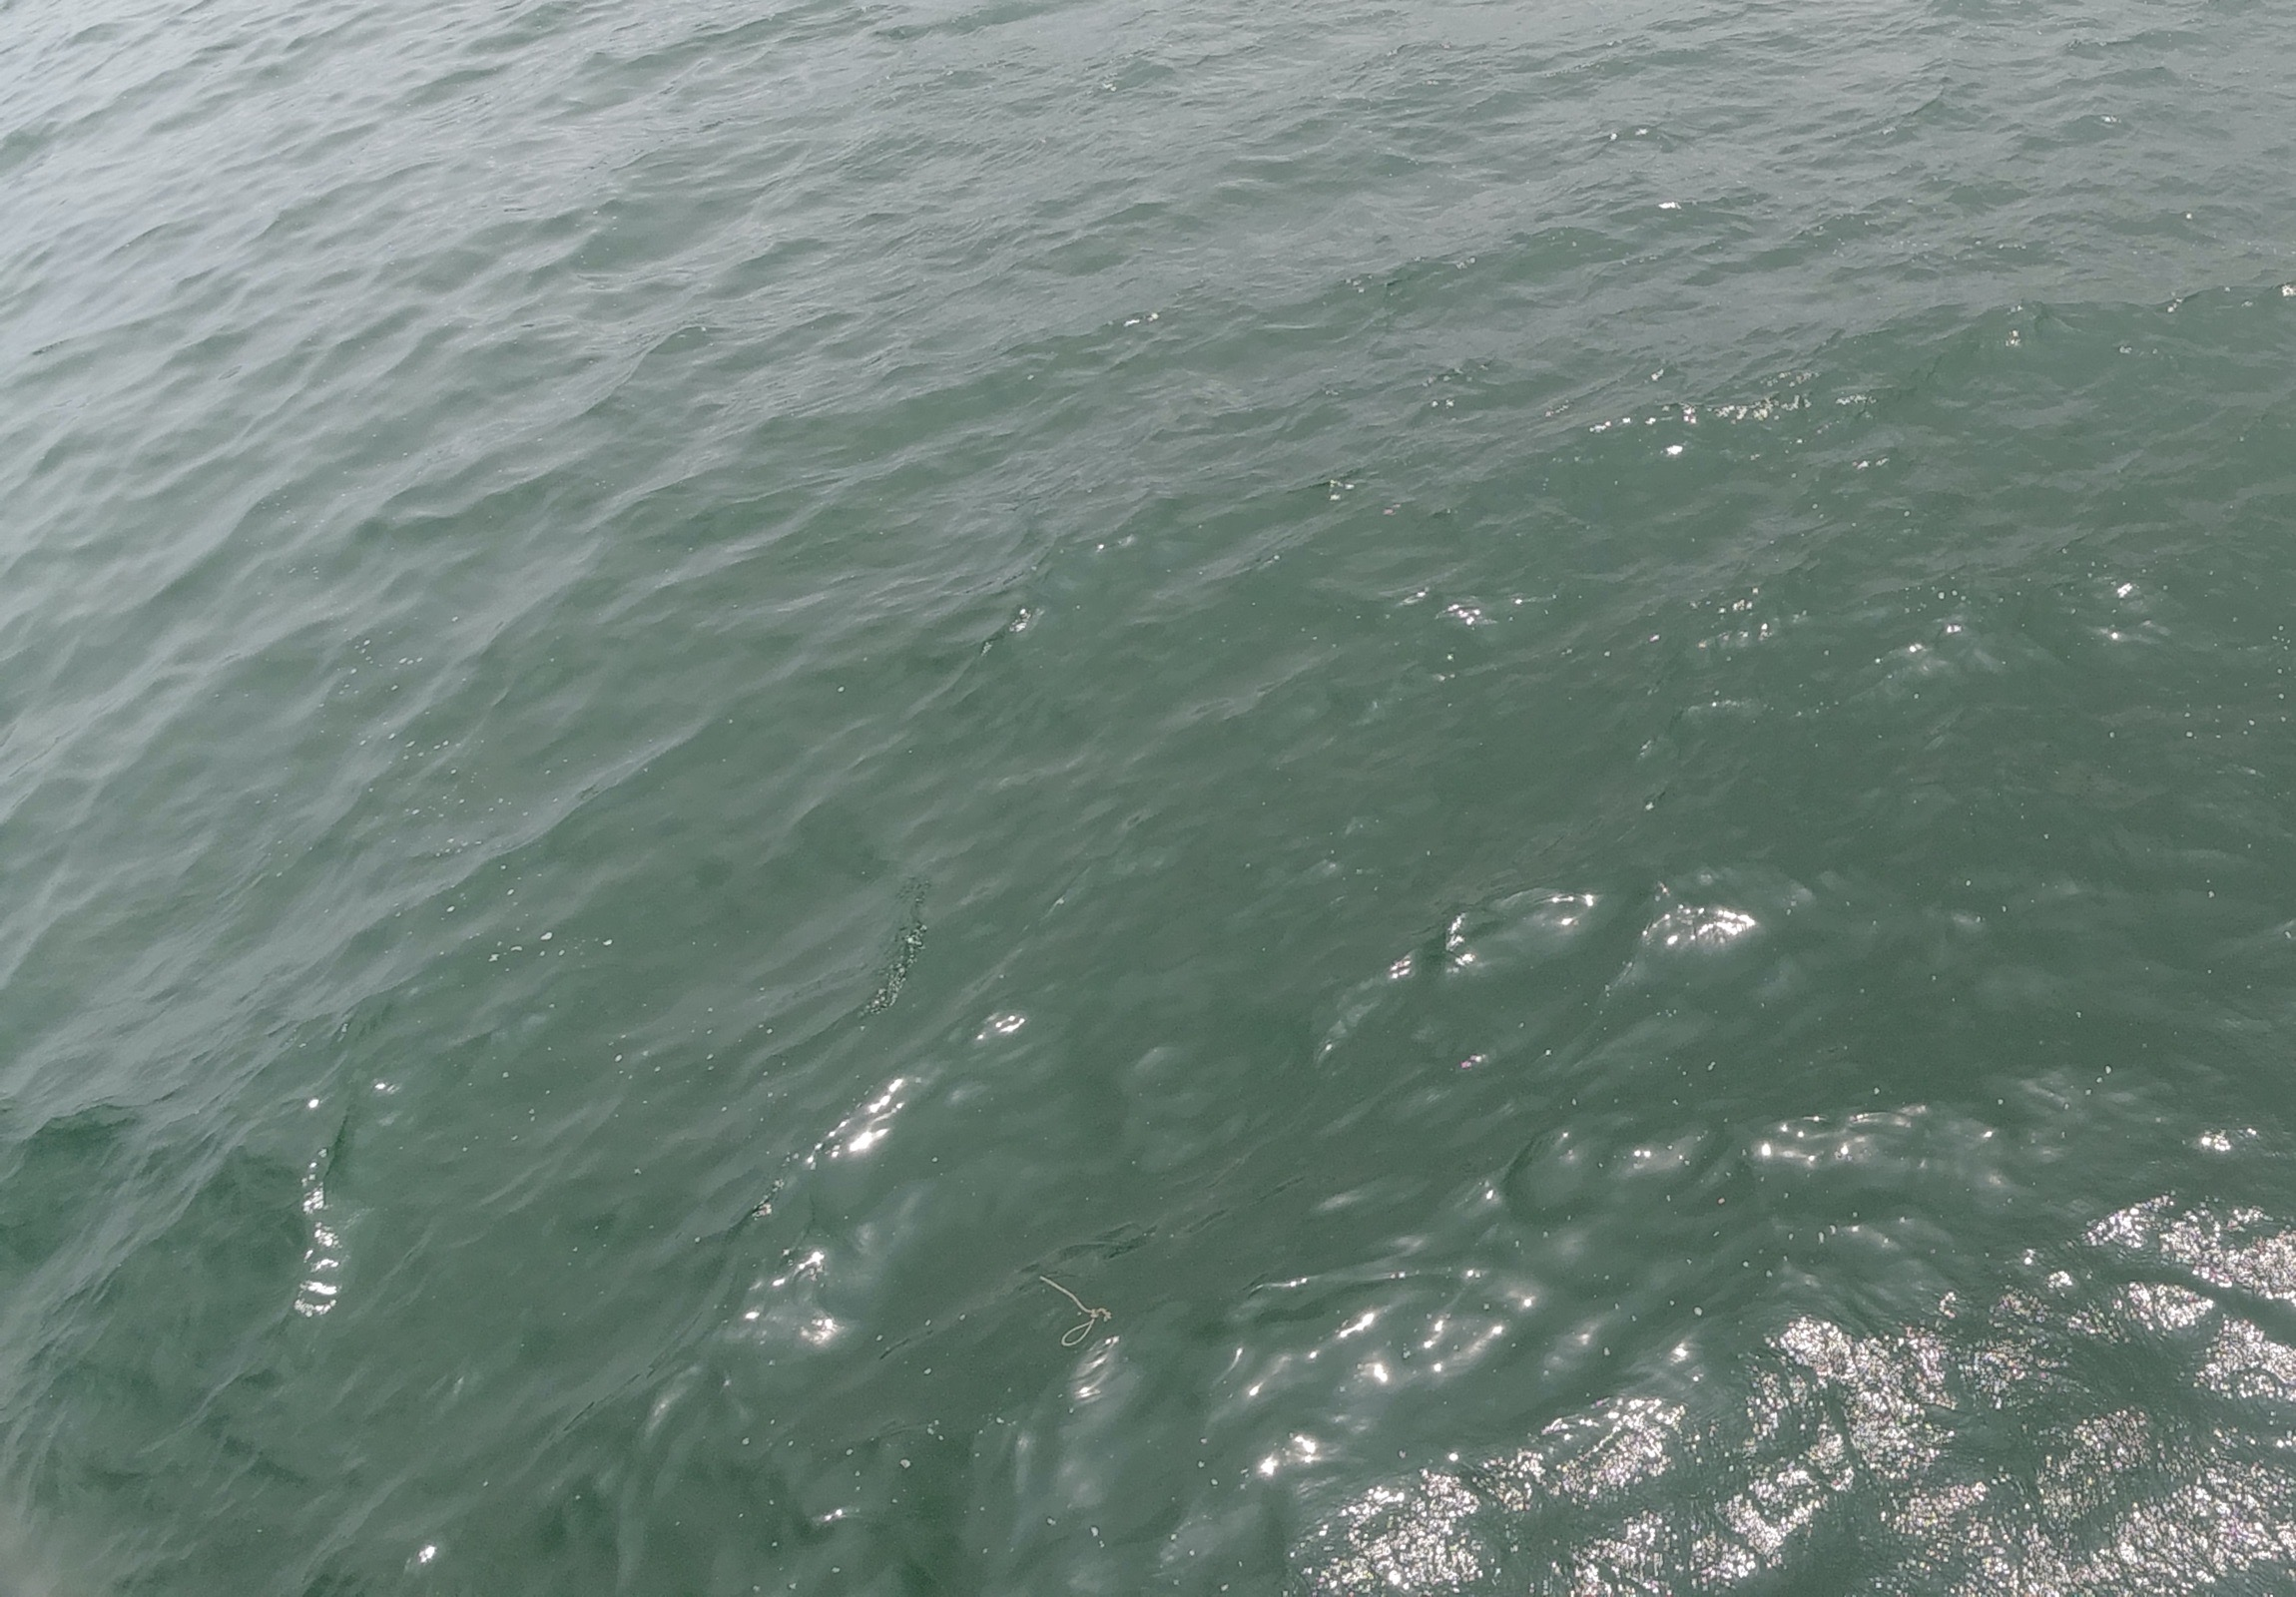plastic: (1031, 1267, 1117, 1353)
